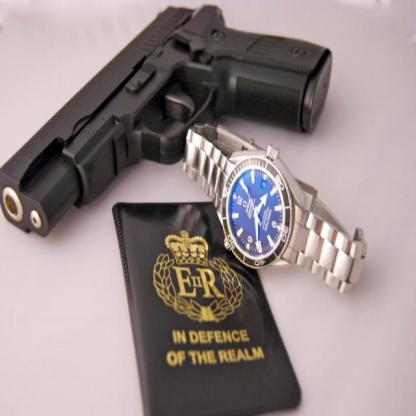weapon: (0, 4, 334, 237)
